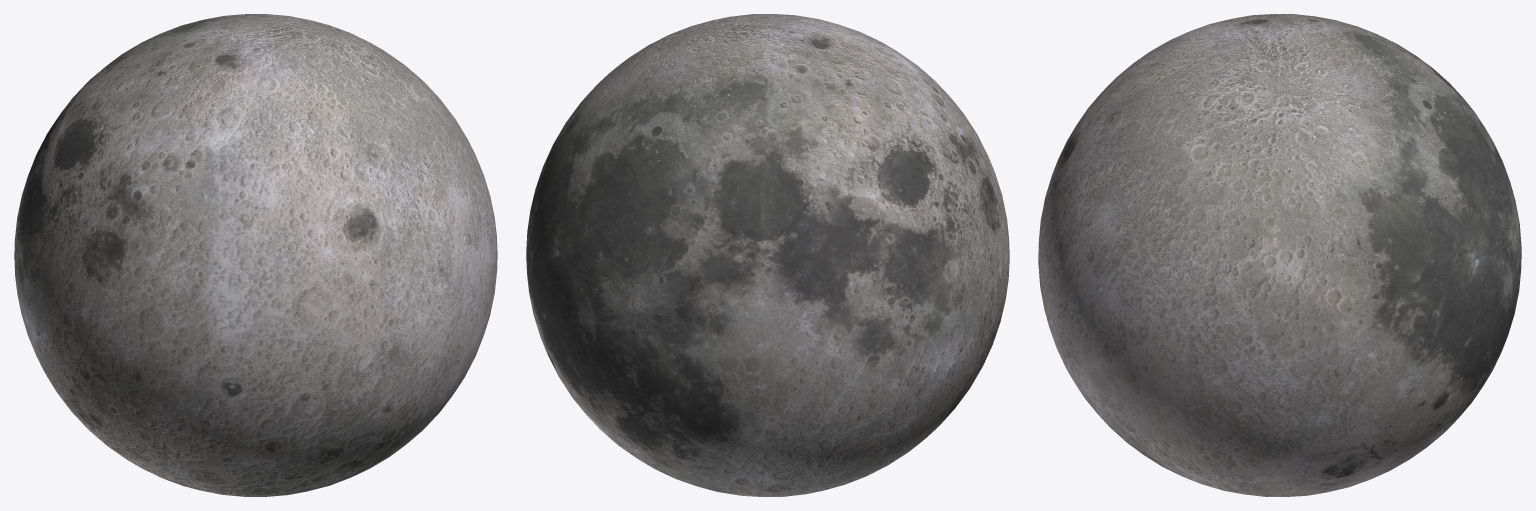
The picture shows the model from 3 angles, left to right: view 1: azimuth 30°, elevation 25°; view 2: azimuth 150°, elevation 25°; view 3: azimuth 270°, elevation 25°; orthographic projection.
Visible parts, largest first — view 1: moon; view 2: moon; view 3: moon.
Boxes of the visible parts, x1,y1,x2,y2 form: moon: (14,14,497,496); moon: (526,14,1009,496); moon: (1038,14,1521,496).
Size of the model in its own units: 99.93 by 99.94 by 99.92.
1 material, 1 textured.
